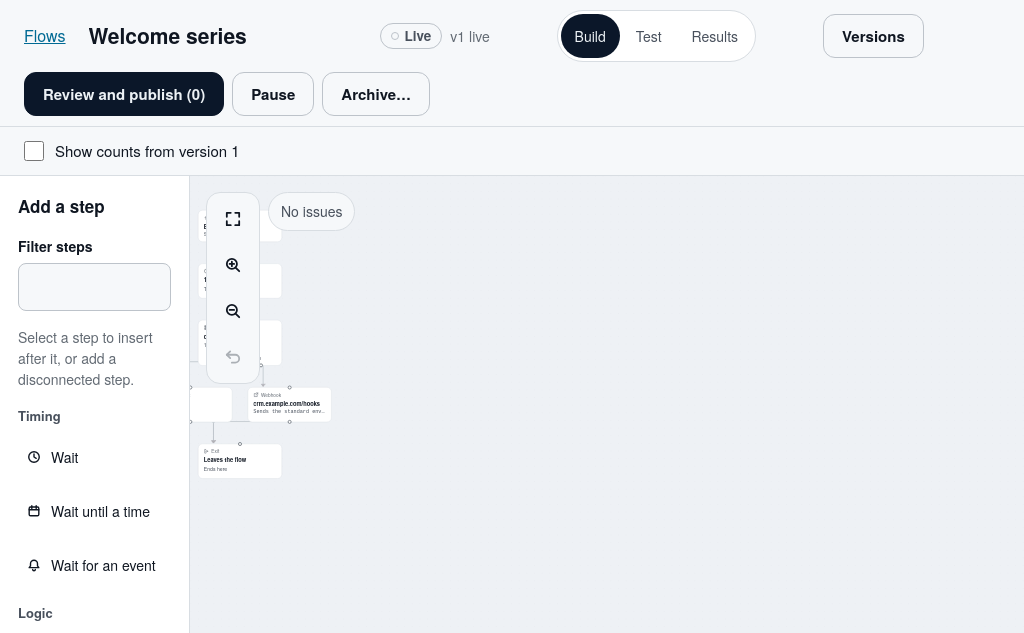
Test: the entries per day on the flow results › says no one has entered when the total is zero, and draws no axes
Click the link "Results" at point(715, 36), box [692,26,738,46]
(page scrolled)
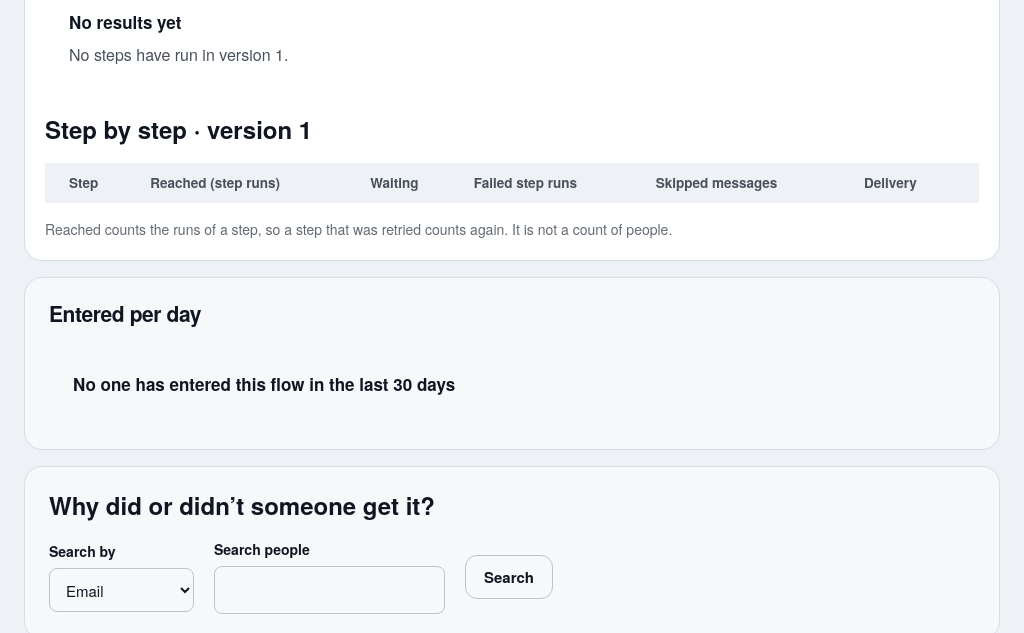
Result: the text "No one has entered this flow in the last 30 days" is shown at [73,372,455,397]
